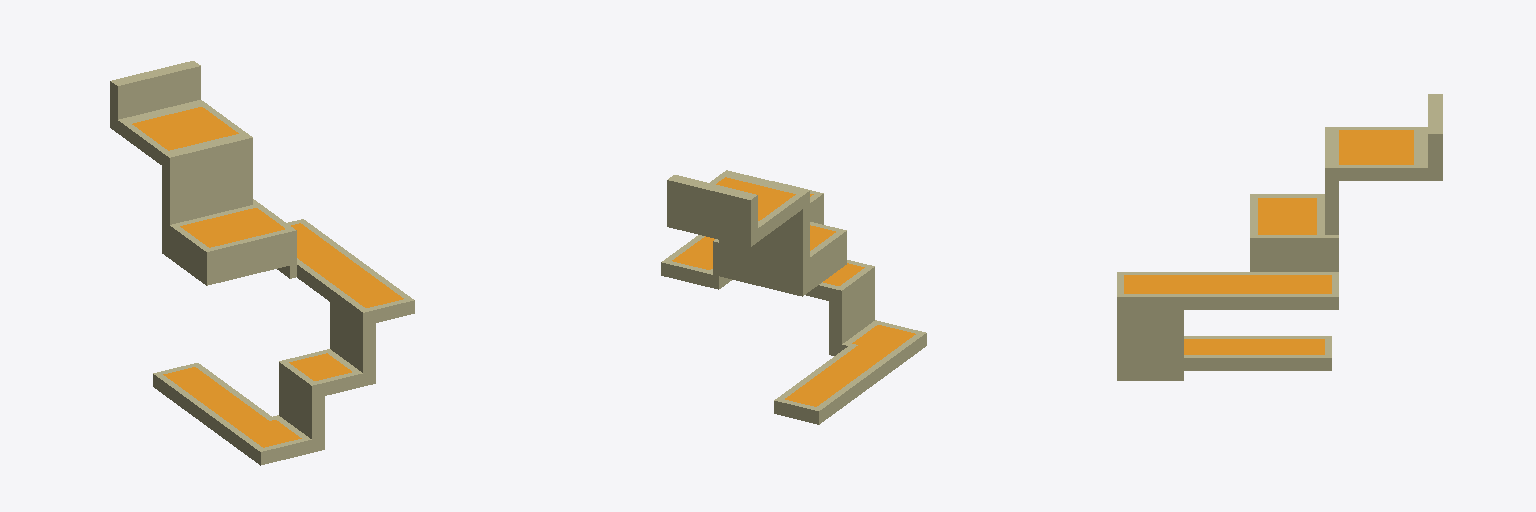
3 views of the same model, side by side, from view 1: azimuth 30°, elevation 25°; view 2: azimuth 150°, elevation 25°; view 3: azimuth 270°, elevation 25° (orthographic).
Size of the model in its own units: 24 by 39 by 44.
Materials: 1 (1 with a texture image).